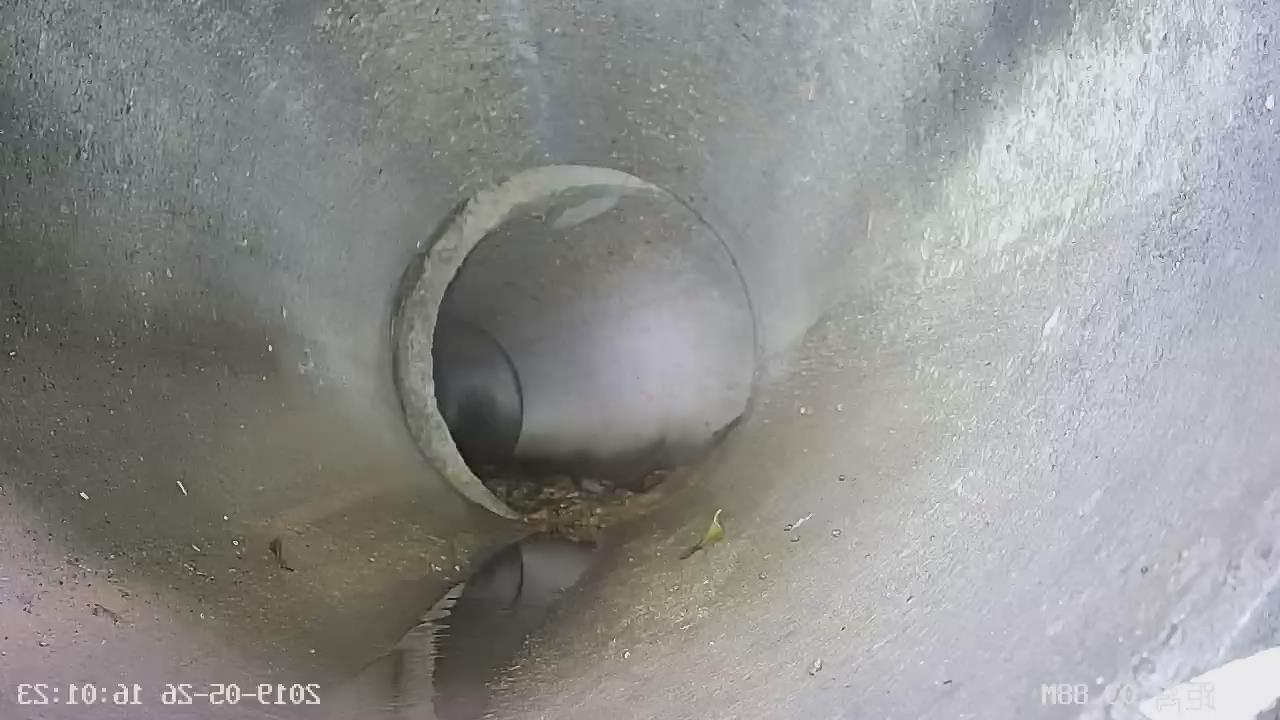CJ: (475, 465, 672, 543)
CKTJ: (392, 165, 680, 519)
